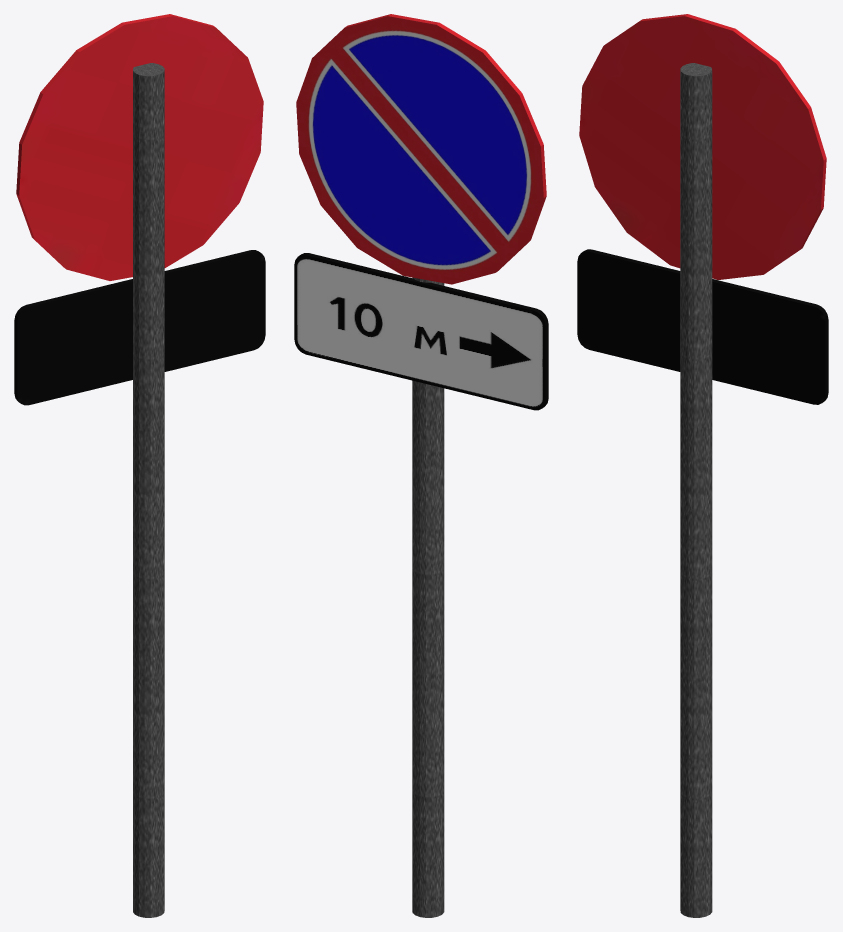
The model's file is знакСтоянкаЗапрещена.glb.
3 views of the same model, side by side, from view 1: azimuth 30°, elevation 25°; view 2: azimuth 150°, elevation 25°; view 3: azimuth 330°, elevation 25° (orthographic).
Visible parts, largest first — view 1: Circle, знакСтоянкаЗарещена, Plane.001; view 2: Circle, Plane.001, знакСтоянкаЗарещена; view 3: Circle, знакСтоянкаЗарещена, Plane.001.
Boxes of the visible parts, bbox=[...] form: Circle: bbox=[16, 14, 263, 280]; знакСтоянкаЗарещена: bbox=[133, 63, 164, 917]; Plane.001: bbox=[14, 250, 265, 405]; Circle: bbox=[296, 14, 546, 284]; Plane.001: bbox=[294, 253, 548, 410]; знакСтоянкаЗарещена: bbox=[412, 277, 444, 917]; Circle: bbox=[579, 14, 826, 279]; знакСтоянкаЗарещена: bbox=[680, 63, 712, 917]; Plane.001: bbox=[577, 249, 828, 404].
Size of the model in its own units: 0.8945 by 3.05 by 0.1074.
Materials: 3 (3 with a texture image).
